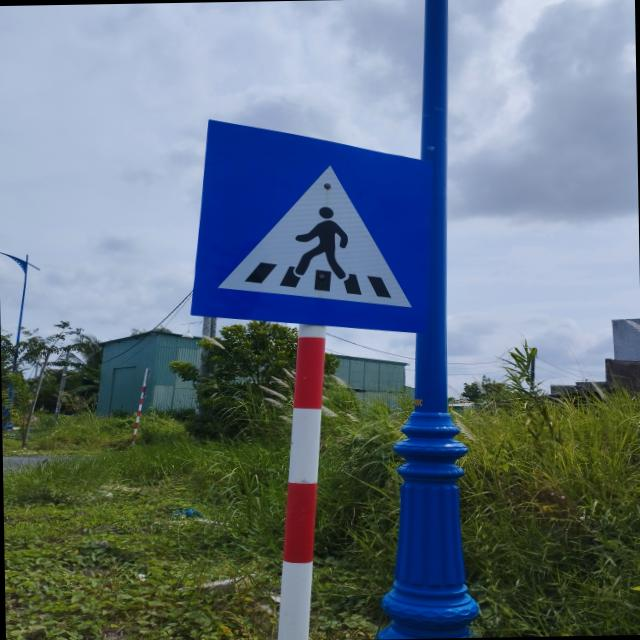Giao_Nhau_Duong_Uu_Tien: (184, 114, 437, 328)
